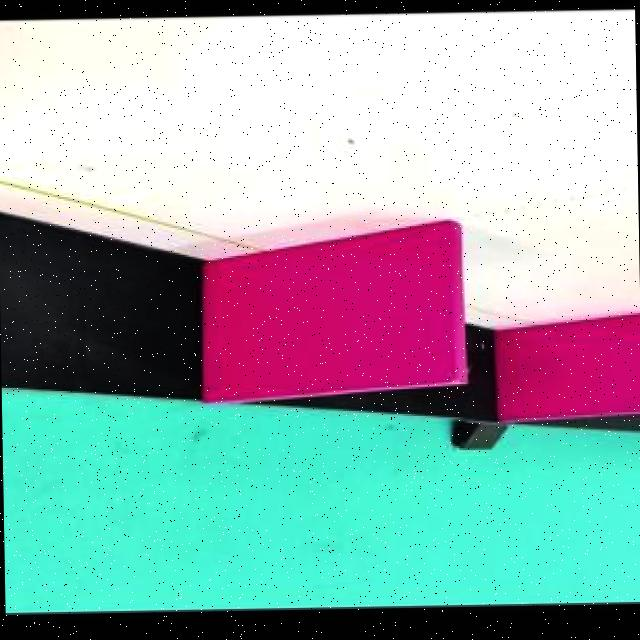xparking: (216, 228, 459, 378), (503, 318, 640, 409)
